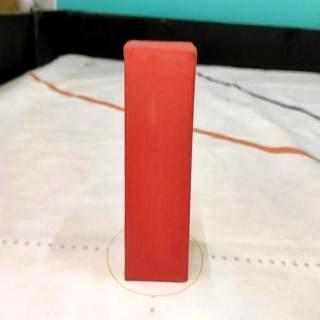redbox: (122, 38, 196, 282)
